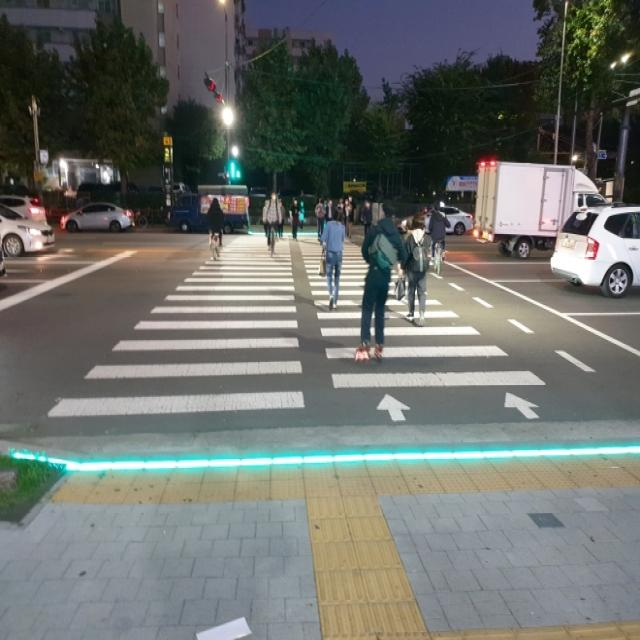crosswalk: (73, 214, 554, 456)
greenlight: (223, 136, 240, 182)
